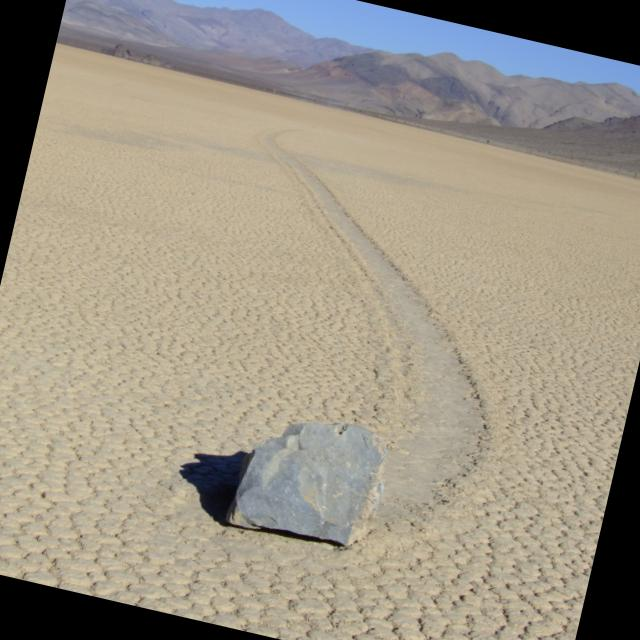stone: (227, 423, 385, 545)
white-sand: (31, 44, 640, 505), (0, 43, 392, 423), (0, 476, 412, 640), (353, 422, 622, 640), (0, 355, 208, 527), (374, 515, 585, 640)
